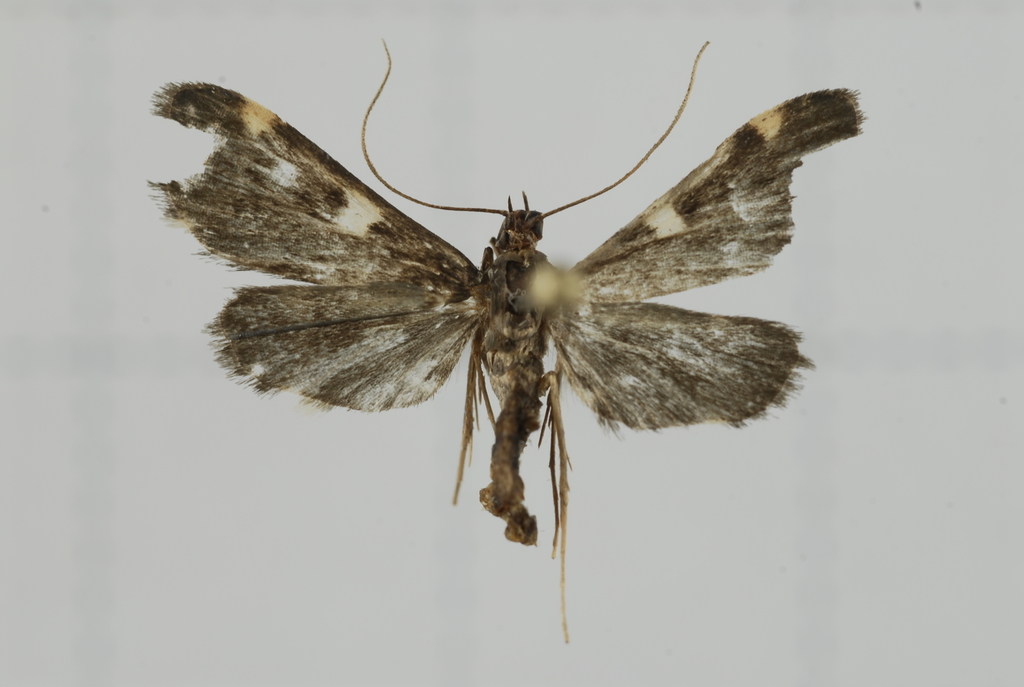Butterfly: (134, 58, 867, 553)
